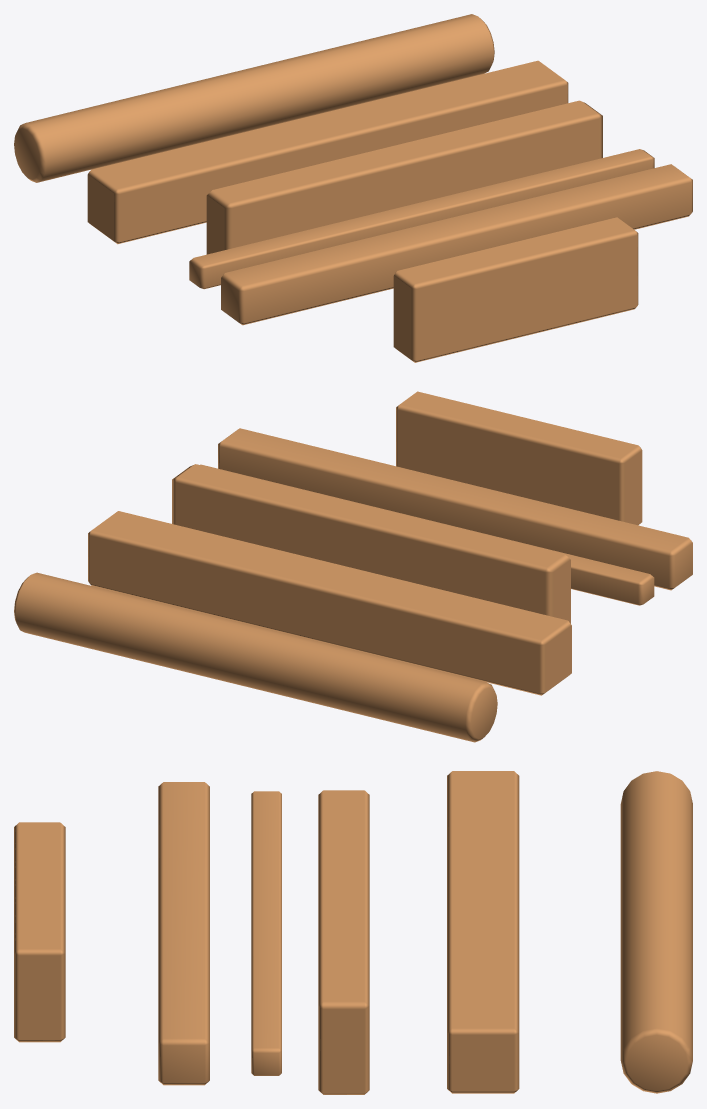
Rendered from beams.fbx.
3 renders of one model, top to bottom at view 1: azimuth 30°, elevation 25°; view 2: azimuth 150°, elevation 25°; view 3: azimuth 270°, elevation 25°, orthographic. The views are drawn at different scales.
Parts seen in each view (by area): view 1: Thick_Beam_02, Thick_Beam_01, Door_Frame, Window_Frame.007, Window_Beam, Window_Beam.003; view 2: Thick_Beam_01, Thick_Beam_02, Door_Frame, Window_Beam, Window_Frame.007, Window_Beam.003; view 3: Thick_Beam_01, Thick_Beam_02, Door_Frame, Window_Beam, Window_Frame.007, Window_Beam.003.
Part boxes in pixels (x1,y1,x2,y2): Thick_Beam_02: (14, 14, 494, 182); Thick_Beam_01: (87, 60, 568, 244); Door_Frame: (206, 100, 602, 254); Window_Frame.007: (393, 217, 638, 362); Window_Beam: (221, 164, 692, 325); Window_Beam.003: (189, 149, 654, 289); Thick_Beam_01: (88, 511, 571, 695); Thick_Beam_02: (14, 572, 497, 742); Door_Frame: (172, 464, 570, 623); Window_Beam: (218, 428, 692, 590); Window_Frame.007: (396, 391, 642, 525); Window_Beam.003: (200, 464, 654, 605); Thick_Beam_01: (447, 771, 519, 1093); Thick_Beam_02: (620, 771, 692, 1093); Door_Frame: (318, 790, 369, 1094); Window_Beam: (158, 782, 209, 1085); Window_Frame.007: (14, 822, 65, 1042); Window_Beam.003: (251, 791, 281, 1075).
Size of the model in its own units: 301 by 50 by 329.
